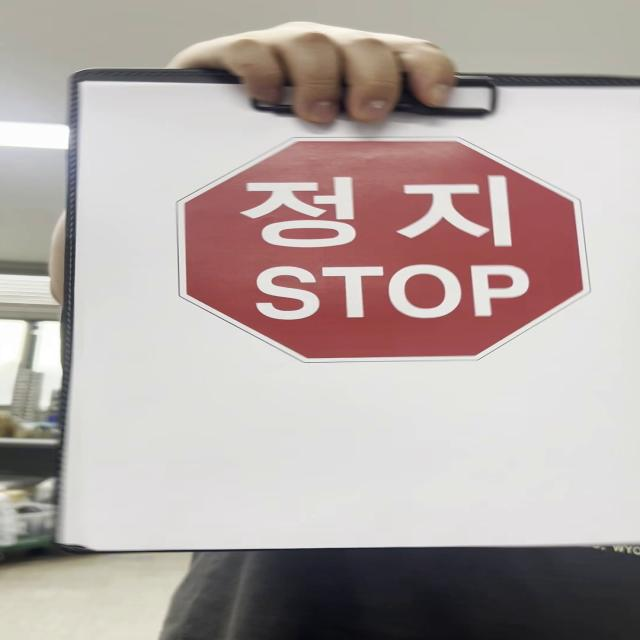stop: (170, 135, 598, 362)
